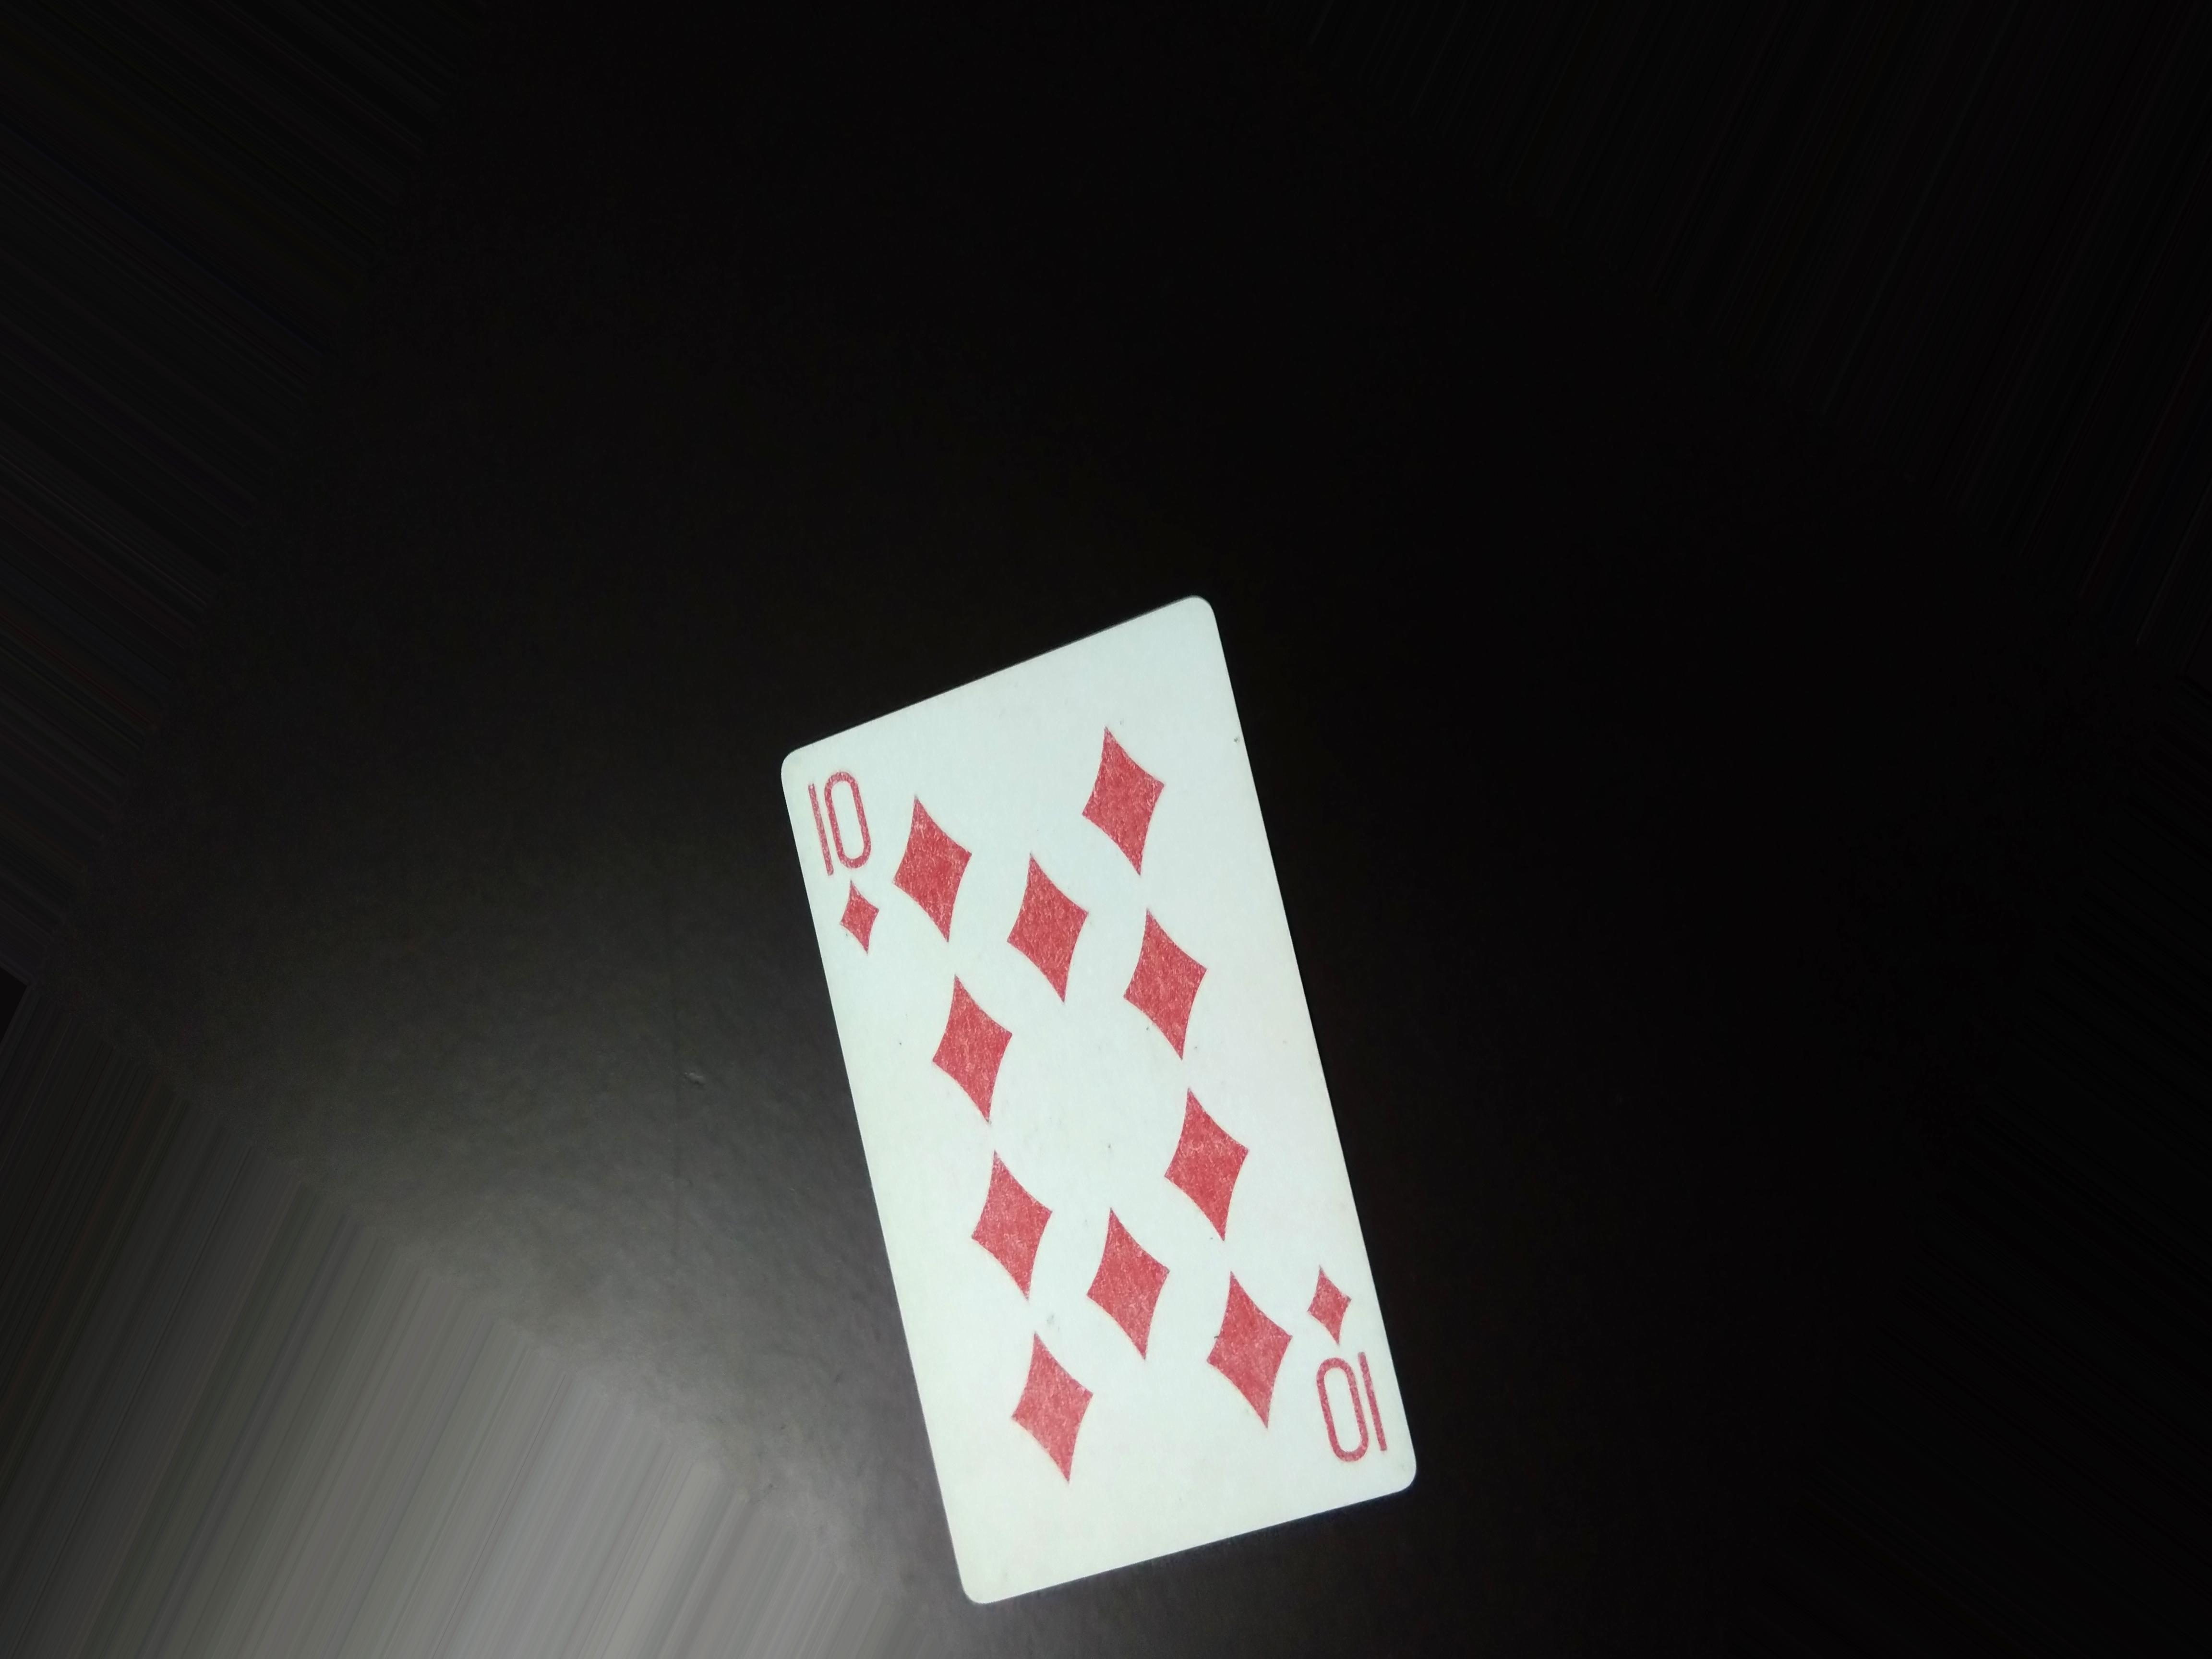10D: (801, 751, 909, 972)
